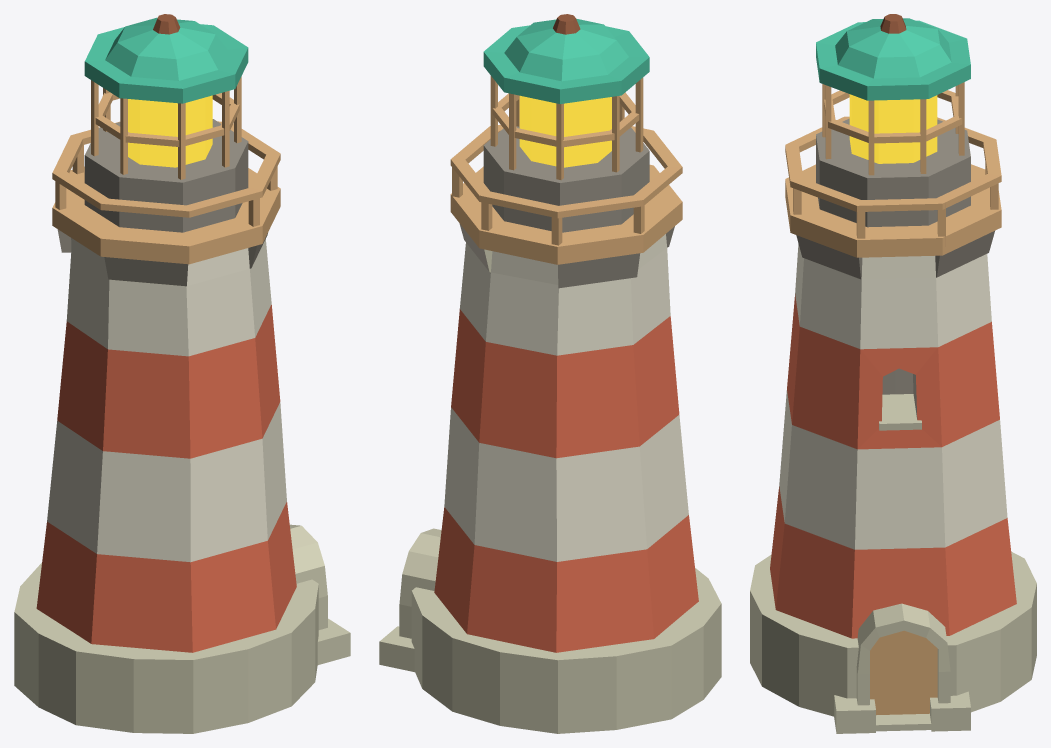
File: lighthouse.glb
3 views of the same model, side by side, from view 1: azimuth 30°, elevation 25°; view 2: azimuth 150°, elevation 25°; view 3: azimuth 270°, elevation 25° (orthographic).
Parts seen in each view (by area): view 1: Cube, Cube.001, Cube.004, Cube.003, Cube.002, Cube.005, Cube.019, Cube.018, Cube.028, Cube.015, Cube.020, Cube.025 (+2 smaller); view 2: Cube, Cube.001, Cube.004, Cube.003, Cube.002, Cube.005, Cube.019, Cube.018, Cube.028, Cube.016, Cube.025, Cube.023 (+2 smaller); view 3: Cube, Cube.001, Cube.004, Cube.003, Cube.002, Plane, Cube.005, Cube.019, Cube.018, Cube.028, Cube.015, Cube.016 (+6 smaller).
Part boxes in pixels (x1,y1,x2,y2): Cube: (36,229,296,652); Cube.001: (14,563,318,733); Cube.004: (84,14,248,103); Cube.003: (84,119,248,232); Cube.002: (52,166,280,264); Cube.005: (52,121,280,217); Cube.019: (128,95,212,167); Cube.018: (289,524,327,629); Cube.028: (95,92,239,146); Cube.015: (317,618,350,664); Cube.020: (178,103,185,179); Cube.025: (120,98,127,174); Cube: (434,223,698,652); Cube.001: (411,568,721,733); Cube.004: (483,14,649,103); Cube.003: (483,126,649,232); Cube.002: (450,164,682,264); Cube.005: (450,124,682,218); Cube.019: (519,95,611,167); Cube.018: (399,528,441,638); Cube.028: (492,92,639,147); Cube.016: (379,626,414,672); Cube.025: (635,77,643,152); Cube.023: (556,103,563,180); Cube: (770,231,1016,638); Cube.001: (750,551,1036,716); Cube.004: (816,14,970,100); Cube.003: (816,118,970,227); Cube.002: (785,164,1001,257); Plane: (870,630,937,715); Cube.005: (785,116,1001,211); Cube.019: (849,94,937,163); Cube.018: (856,603,950,705); Cube.028: (824,90,962,143); Cube.015: (834,695,875,733); Cube.016: (930,691,970,731).
Bounding box in the file's own units: 10.13 × 22.04 × 8.93.
